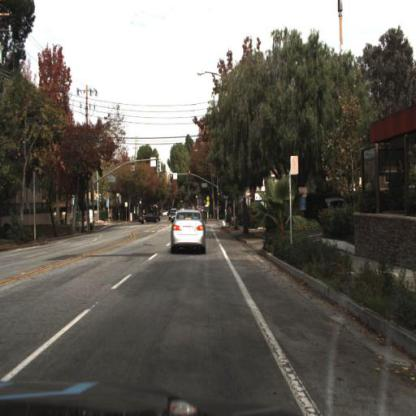car: (167, 203, 214, 260), (169, 206, 209, 257), (318, 192, 361, 218), (134, 209, 164, 231), (137, 209, 162, 226)
trafficLight-Red: (215, 186, 223, 205), (217, 185, 225, 204), (187, 164, 194, 183), (169, 171, 176, 188), (168, 171, 174, 188), (187, 169, 192, 185)
